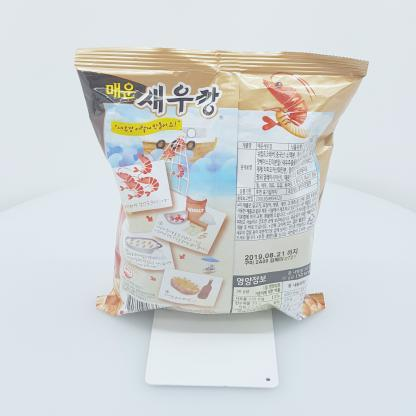Plastic Packaging: (68, 40, 372, 336)
